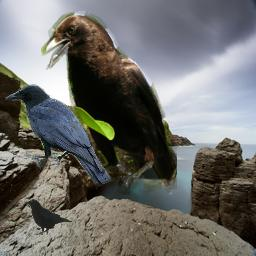Crow: (41, 11, 177, 195), (5, 84, 111, 188), (23, 198, 72, 235)
